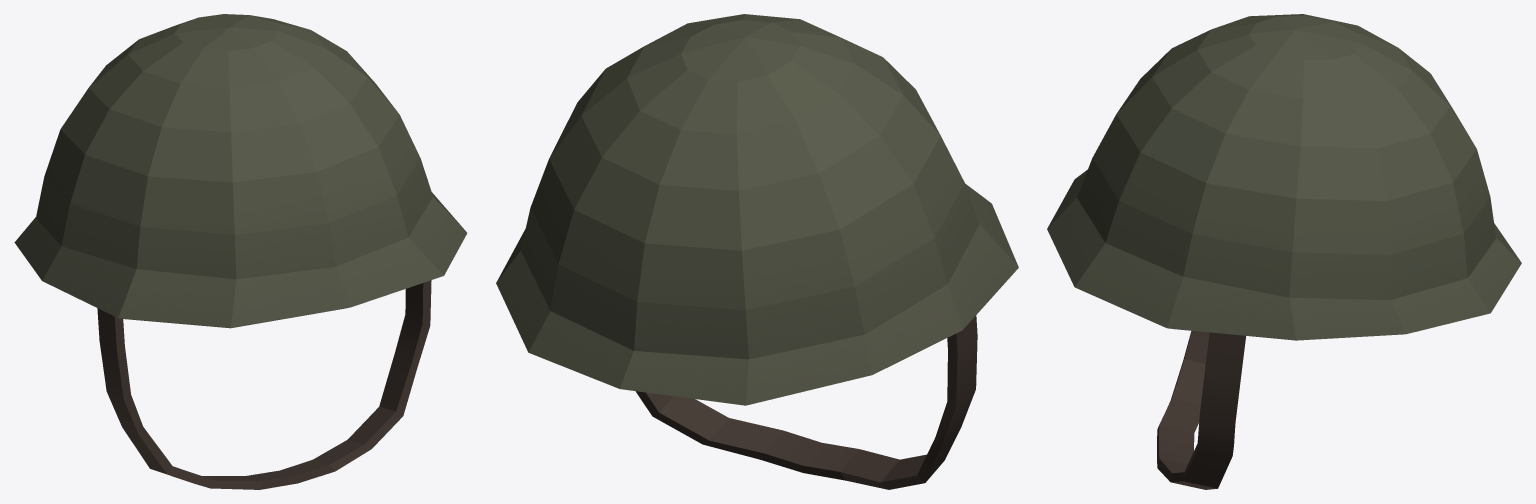
The model's file is hat_armyhelmet.fbx.
3 renders of one model, left to right at view 1: azimuth 30°, elevation 25°; view 2: azimuth 150°, elevation 25°; view 3: azimuth 270°, elevation 25°, orthographic. The views are drawn at different scales.
Visible parts, largest first — view 1: ArmyHelmet_OBJ, Strap_OBJ; view 2: ArmyHelmet_OBJ, Strap_OBJ; view 3: ArmyHelmet_OBJ, Strap_OBJ.
Boxes of the visible parts, <box> form: ArmyHelmet_OBJ: <box>14,14,467,328</box>; Strap_OBJ: <box>97,280,431,489</box>; ArmyHelmet_OBJ: <box>496,14,1018,405</box>; Strap_OBJ: <box>635,315,977,489</box>; ArmyHelmet_OBJ: <box>1047,14,1521,340</box>; Strap_OBJ: <box>1157,330,1245,489</box>.
Bounding box in the file's own units: 2.6 × 2.73 × 2.73.
